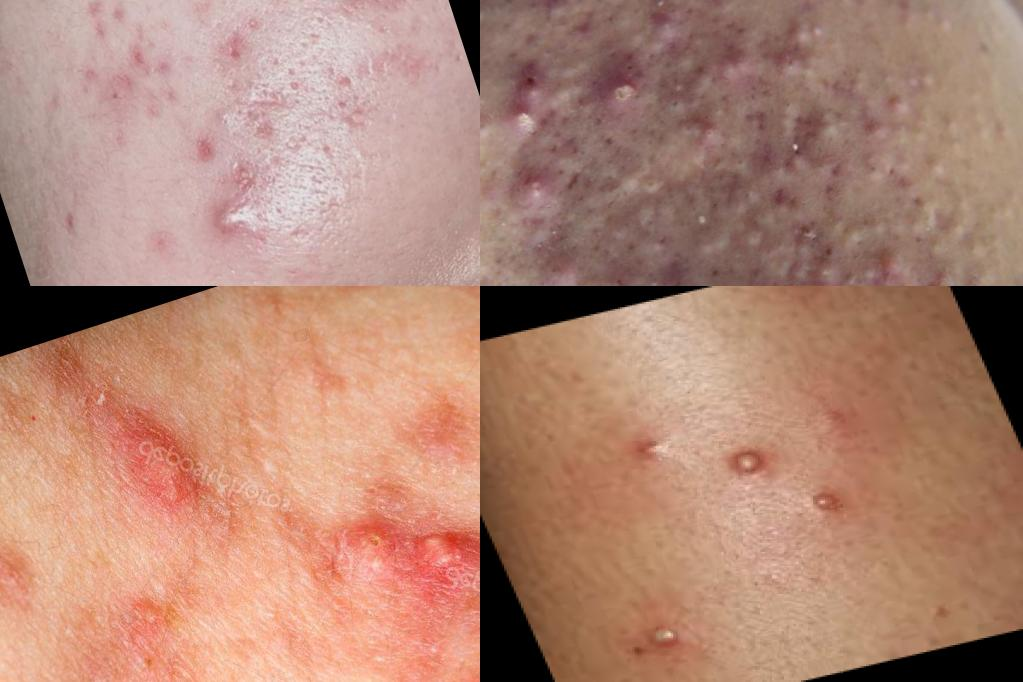acne_scars: (33, 181, 96, 247), (209, 17, 263, 74), (320, 55, 375, 103), (77, 1, 136, 42), (249, 99, 291, 150), (123, 33, 165, 81), (180, 131, 226, 174), (367, 1, 426, 21), (329, 1, 367, 19)
folliculitis: (712, 435, 787, 489), (628, 608, 701, 663), (794, 481, 859, 521)
papular: (843, 45, 937, 149), (197, 177, 284, 249), (710, 31, 772, 89), (615, 424, 682, 475), (629, 243, 701, 287), (646, 1, 701, 54), (925, 248, 993, 287), (544, 242, 585, 287)
purulent: (592, 62, 655, 120), (515, 163, 561, 209), (510, 93, 541, 133)
sebo-crystan-conglo: (313, 452, 481, 634), (89, 364, 235, 543), (771, 84, 816, 126), (853, 141, 890, 190)
whitehead: (821, 194, 910, 262), (958, 78, 1015, 155), (195, 85, 255, 149), (778, 2, 839, 58), (909, 1, 966, 47), (687, 214, 737, 263), (981, 175, 1023, 231), (481, 69, 507, 150), (630, 160, 672, 210), (654, 85, 701, 126), (718, 142, 760, 182), (534, 1, 590, 31), (919, 148, 956, 193), (505, 250, 543, 287), (481, 1, 507, 46), (881, 267, 927, 287), (839, 256, 868, 287), (721, 275, 782, 287)
